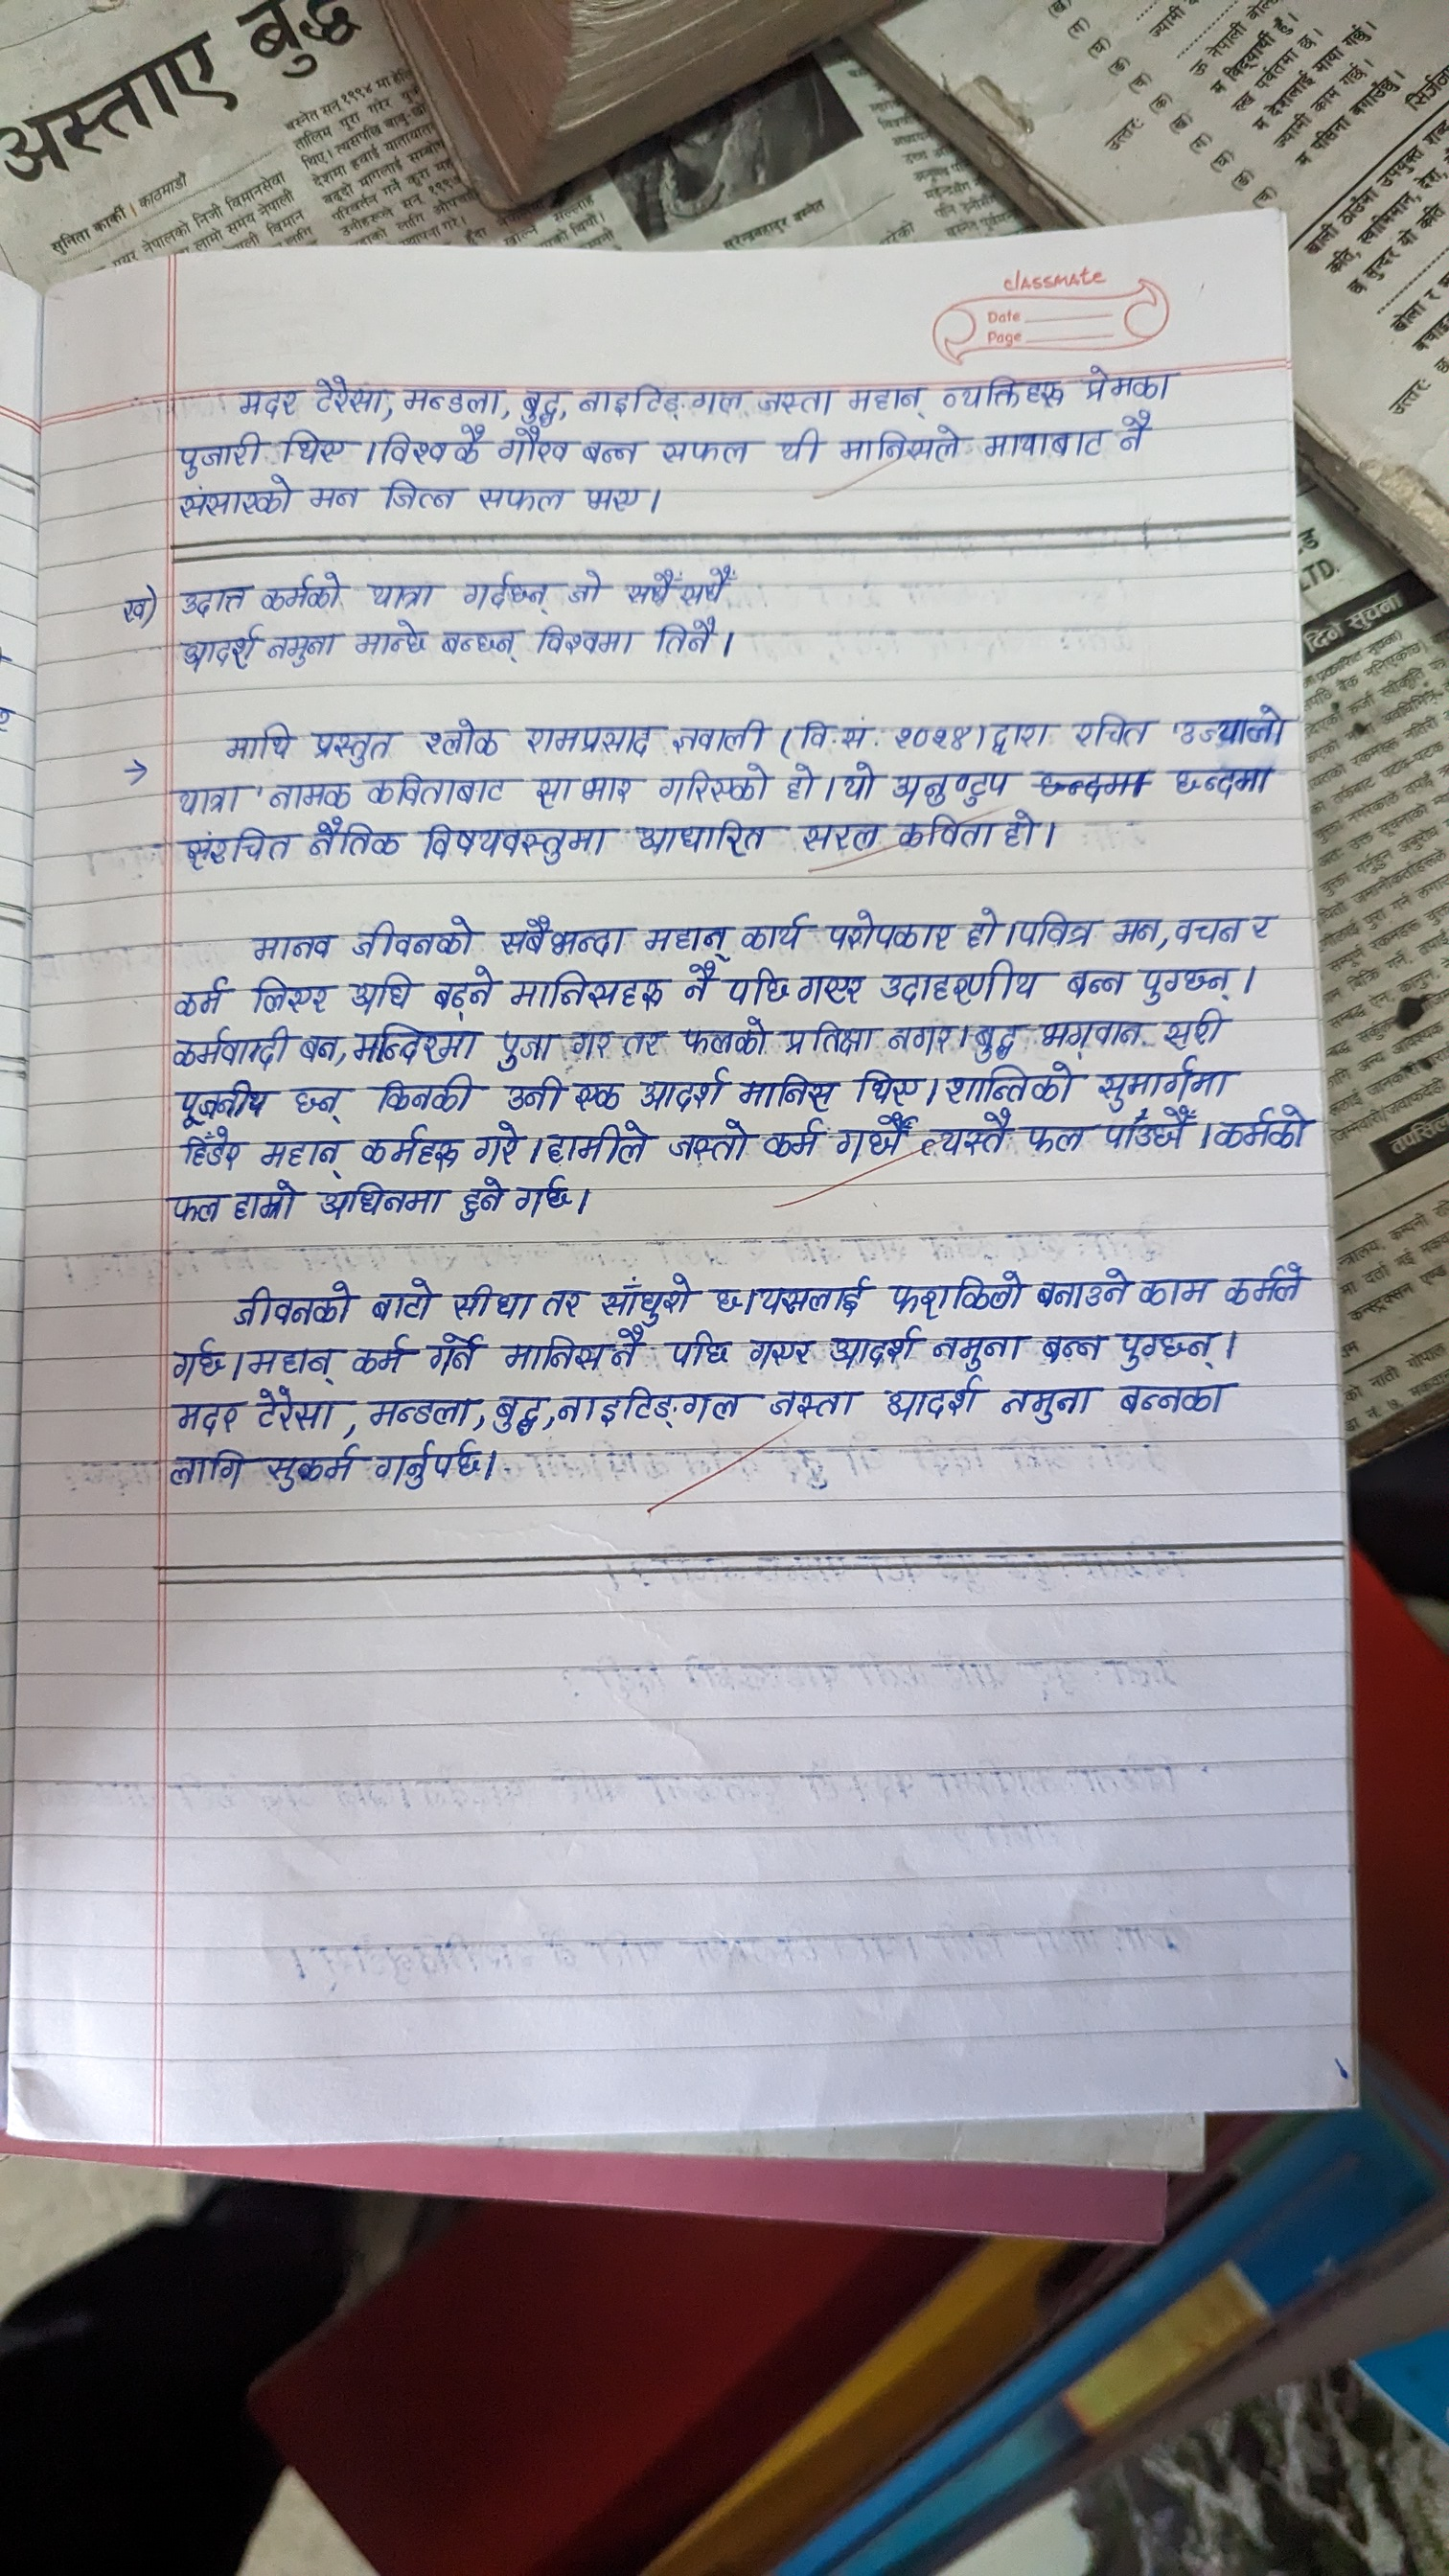text: (418, 821, 617, 869), (554, 1384, 743, 1424), (881, 959, 1039, 1005), (630, 814, 775, 863), (885, 1269, 1026, 1318), (501, 1327, 648, 1373), (499, 909, 628, 961), (1092, 1058, 1240, 1102), (221, 1277, 357, 1325), (580, 379, 747, 418), (370, 1438, 488, 1491), (510, 970, 669, 1008), (350, 913, 479, 959), (1177, 699, 1292, 750), (520, 718, 656, 761), (922, 1109, 1014, 1171), (823, 906, 950, 950), (315, 1180, 448, 1223), (165, 1026, 292, 1069), (352, 1021, 479, 1063), (1115, 1376, 1235, 1421), (1113, 1323, 1228, 1369), (890, 766, 1010, 809), (177, 824, 292, 869), (879, 1375, 985, 1422), (1212, 1106, 1313, 1155), (545, 1120, 656, 1164), (264, 1442, 359, 1493), (366, 773, 511, 807), (170, 1076, 271, 1123), (175, 479, 292, 520), (363, 1122, 458, 1171), (757, 1272, 869, 1315), (996, 1380, 1099, 1426), (1106, 1108, 1196, 1159), (600, 1272, 695, 1320), (168, 430, 267, 476), (379, 423, 485, 465), (531, 768, 637, 810), (947, 1065, 1074, 1100), (676, 1014, 773, 1060), (837, 428, 962, 464), (977, 425, 1108, 458), (1223, 1256, 1307, 1307), (1035, 1016, 1146, 1054), (361, 1391, 478, 1428), (412, 715, 502, 763), (1141, 961, 1238, 1005), (1030, 1265, 1127, 1309), (943, 375, 1063, 410), (671, 713, 770, 755), (370, 1074, 478, 1113), (929, 1329, 1031, 1369), (658, 764, 770, 801), (837, 1115, 915, 1168), (179, 623, 262, 672), (639, 1067, 727, 1113), (304, 816, 400, 858), (734, 1070, 837, 1109), (456, 564, 547, 609), (1065, 704, 1152, 750), (244, 1339, 338, 1382), (308, 720, 391, 768), (895, 814, 996, 853), (534, 623, 639, 660), (446, 1276, 533, 1320), (826, 1327, 916, 1369), (165, 1445, 248, 1491), (255, 1132, 349, 1173), (683, 559, 757, 610), (1169, 763, 1281, 796), (257, 1385, 338, 1431), (402, 379, 501, 416), (784, 1017, 878, 1056), (1081, 363, 1178, 400), (642, 918, 731, 959), (244, 924, 340, 961), (669, 1122, 748, 1166), (352, 617, 433, 660), (260, 570, 343, 610), (349, 1330, 416, 1380), (1169, 904, 1244, 948), (161, 1332, 226, 1382), (1016, 906, 1095, 947), (849, 1063, 922, 1108), (366, 1274, 435, 1320), (437, 625, 518, 663), (248, 975, 333, 1012), (260, 777, 354, 810), (349, 970, 419, 1014), (798, 816, 878, 855), (173, 1127, 249, 1168), (738, 906, 807, 950), (234, 1180, 303, 1224), (423, 1329, 487, 1376), (761, 1389, 862, 1419), (497, 428, 571, 469), (218, 722, 294, 761), (1134, 1269, 1210, 1307), (847, 379, 927, 416), (1028, 1115, 1090, 1162), (265, 628, 338, 669), (794, 968, 867, 1008), (168, 971, 232, 1017), (313, 370, 379, 414), (755, 386, 837, 421), (476, 483, 571, 513), (433, 968, 501, 1010), (495, 1074, 568, 1113), (662, 435, 755, 465), (1161, 1008, 1230, 1049), (651, 616, 718, 656), (727, 964, 791, 1007), (667, 1327, 736, 1366), (985, 717, 1051, 757), (515, 1177, 575, 1221), (458, 1177, 510, 1228), (472, 1120, 525, 1169), (379, 479, 456, 513), (168, 1399, 246, 1433), (885, 722, 971, 752), (626, 563, 683, 609), (1056, 962, 1125, 1000), (280, 430, 356, 464), (763, 1116, 823, 1159), (494, 1028, 556, 1069), (488, 1389, 545, 1433), (166, 784, 246, 814), (179, 579, 246, 614), (165, 1189, 225, 1228), (747, 1336, 816, 1369), (234, 384, 301, 418), (1040, 1329, 1104, 1364), (364, 580, 442, 609), (290, 1081, 349, 1118), (888, 1023, 952, 1056), (582, 439, 651, 469), (971, 1019, 1017, 1063), (584, 479, 642, 513), (571, 1077, 625, 1113), (563, 559, 603, 605), (518, 382, 561, 425), (835, 757, 879, 798), (299, 1023, 340, 1067), (541, 1283, 589, 1320), (773, 428, 823, 464), (308, 479, 359, 513), (679, 961, 718, 1005), (1115, 409, 1152, 455), (962, 904, 998, 950), (568, 1024, 614, 1060), (708, 1279, 747, 1318), (619, 1024, 665, 1056), (793, 715, 832, 752), (1113, 913, 1161, 943), (1005, 810, 1039, 853), (784, 763, 819, 801), (837, 709, 869, 752), (119, 589, 149, 628), (1249, 902, 1277, 939)
